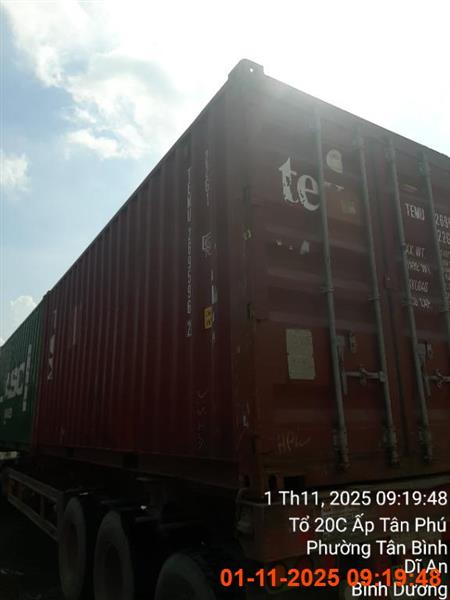broken: (0, 60, 449, 599)
